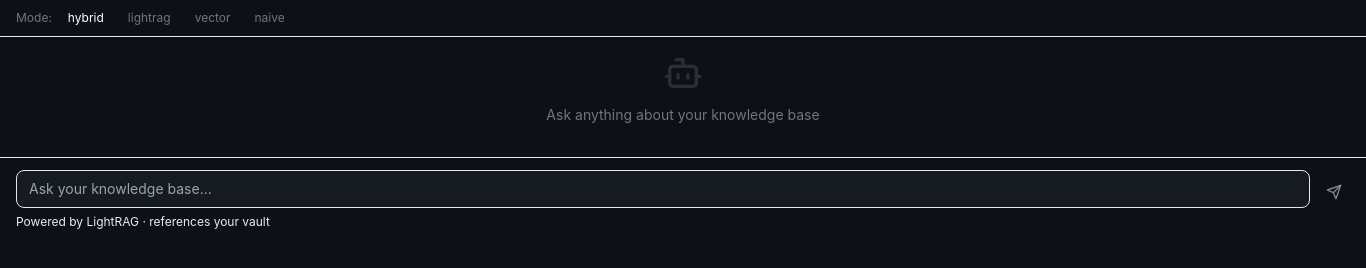
AiChat — EventSource messaging (lines 69-88) › [DONE] closes EventSource — Send stays disabled when input is empty (line 69)
In the text box with placeholder "Ask your knowledge base…": coordinates (663, 189) [16, 170, 1310, 208], type "done test"
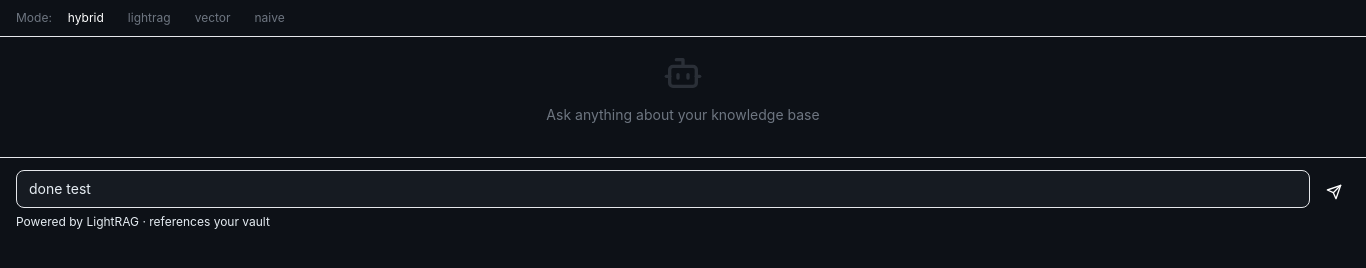
Click the button named "Send": coordinates (1334, 192) [1318, 176, 1350, 208]
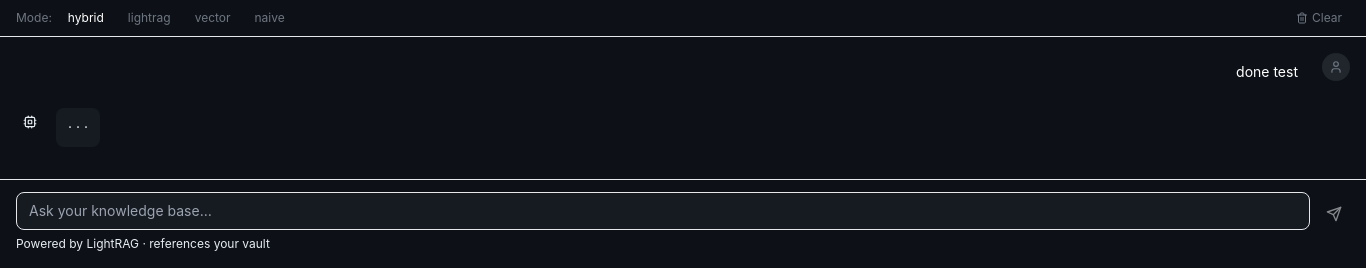
expect the button named "Send" is disabled: met, box [1318, 198, 1350, 230]
